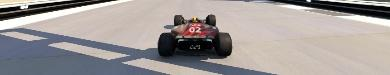Car: (156, 14, 232, 56)
curve: (0, 0, 389, 74)
